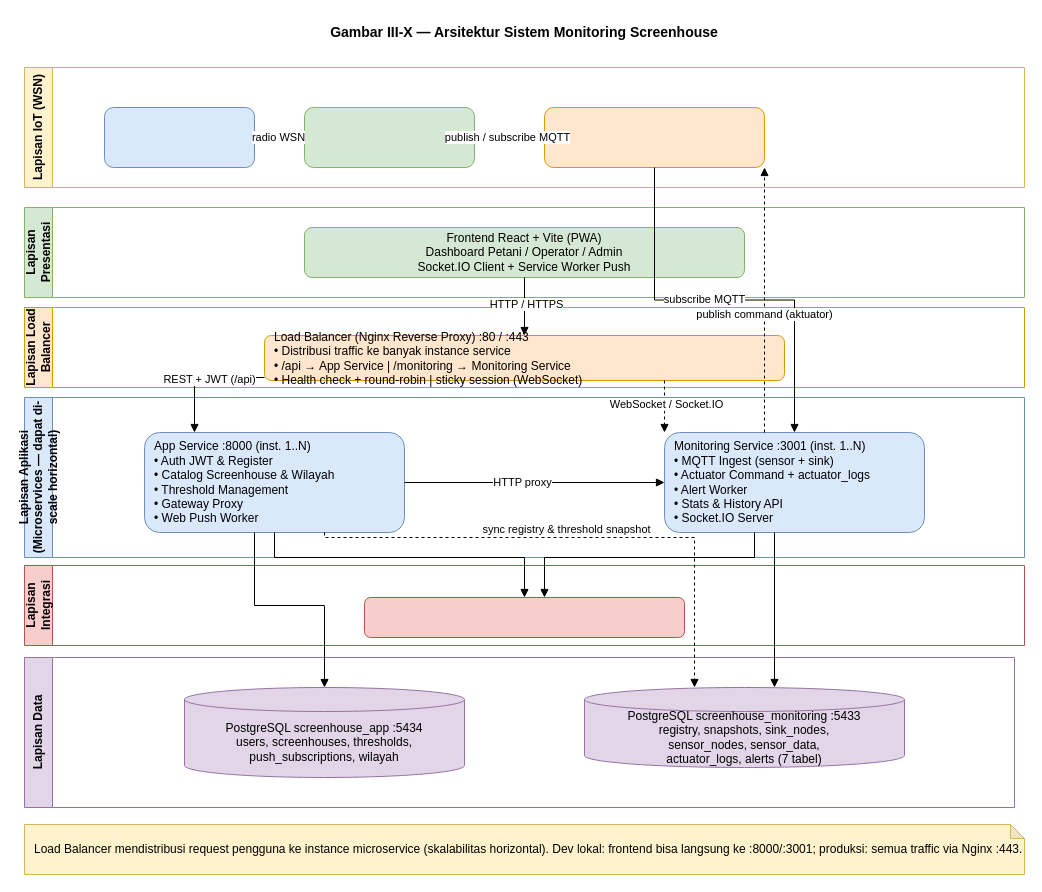
Image size: 1042x892. Some labels were removed from this diagram. The centre of each missing label's shape, as x and y in pixels:
"Mosquitto MQTT Broker :1883 topic: .../sink/.../sensor | .../command" goes at pixel 654 137.
"Redis :6379 — Event Bus (sensor-update, alert-created, threshold-updated)" goes at pixel 524 617.
"Sensor Node (tray) NPK RS485 + parameter node_id: SHxx-T01" goes at pixel 179 137.
"Sink Node (gateway) 1 per screenhouse relay: fan / irigasi / lampu" goes at pixel 389 137.
